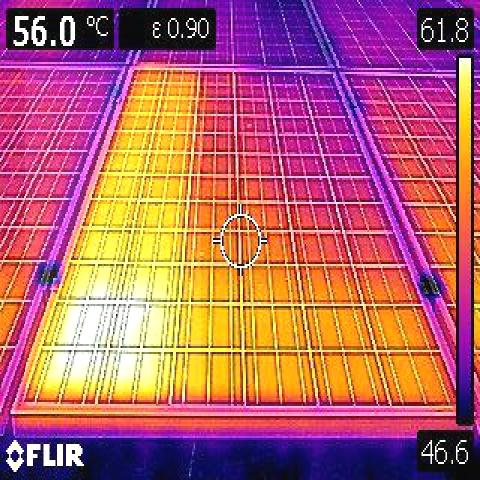fault: (26, 66, 202, 404)
